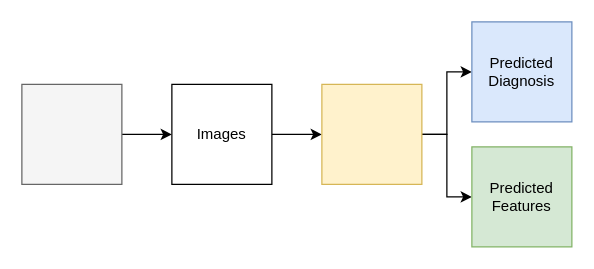
This 594x269 diagram has some shape labels left out. The shapes that lost their labels are listed below. From the top down, each one's centre as x and y in pixels, then its label:
At (x=71, y=133): "Data".
At (x=371, y=133): "MTL Classifier".
